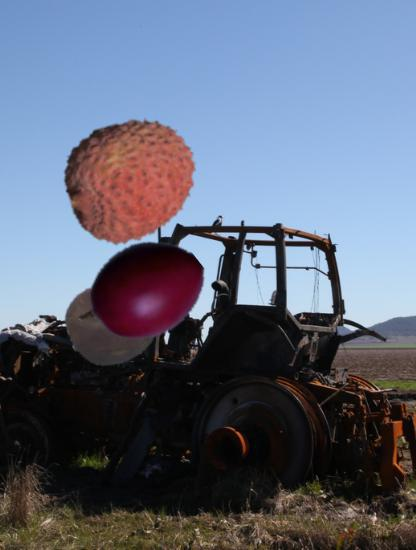Lychee: (65, 113, 201, 249)
Passion: (65, 273, 163, 371)
Tamarillo: (76, 228, 207, 359)
